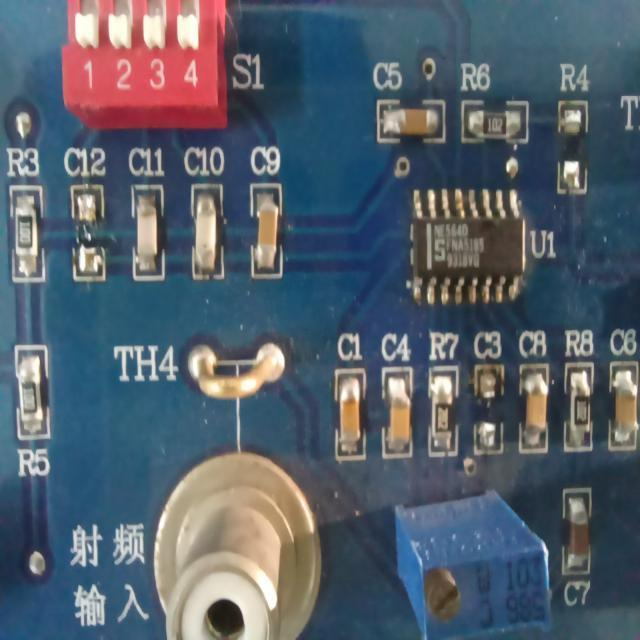Missing component: (60, 143, 116, 289), (546, 59, 596, 209), (467, 326, 507, 460)
